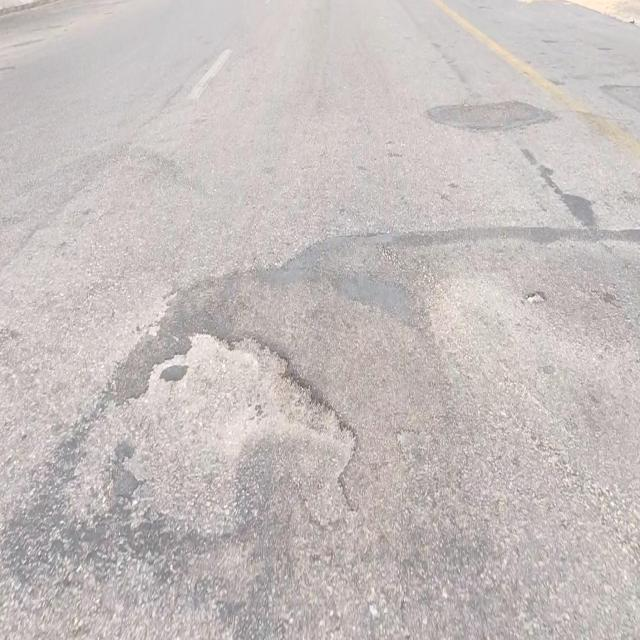Potholes: (122, 328, 360, 544)
